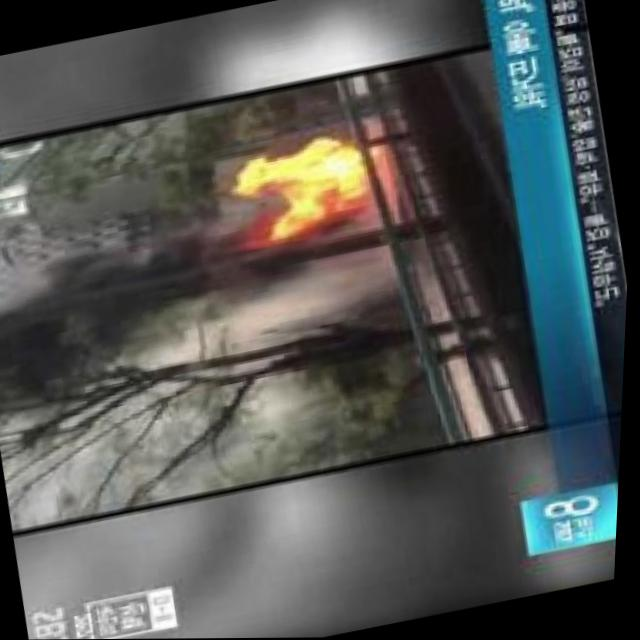Fire: (244, 131, 387, 246)
